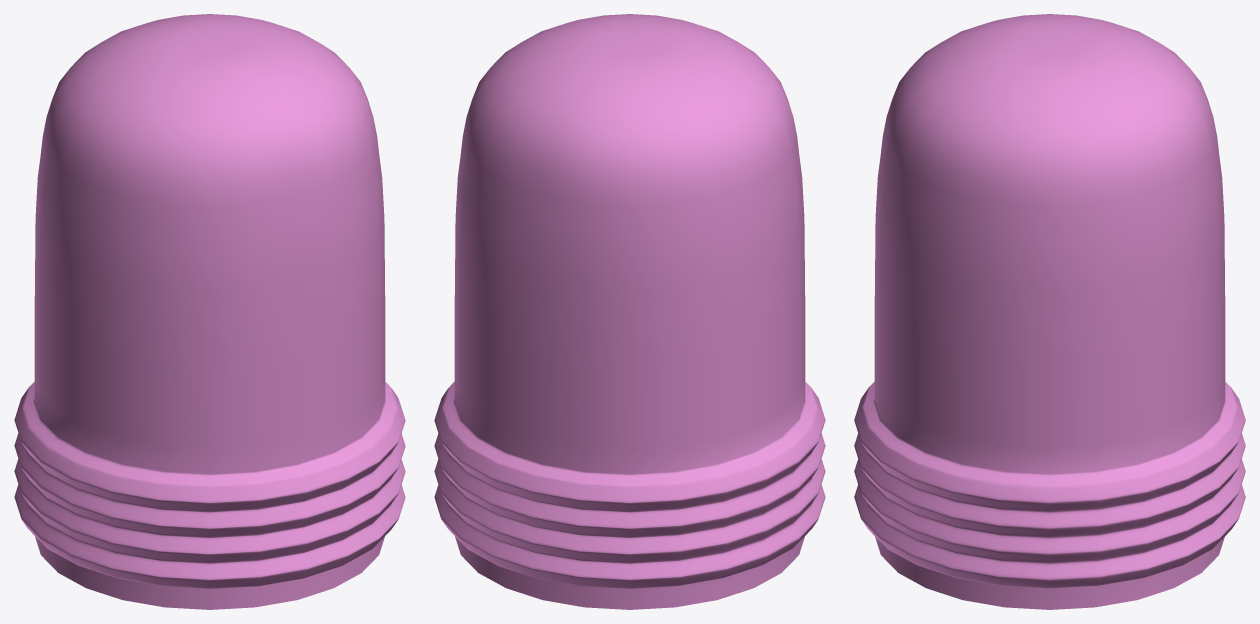
File: iod_low.fbx
3 views of the same model, side by side, from view 1: azimuth 30°, elevation 25°; view 2: azimuth 150°, elevation 25°; view 3: azimuth 270°, elevation 25° (orthographic).
Visible parts, largest first — view 1: iod_low; view 2: iod_low; view 3: iod_low.
Boxes of the visible parts, x1,y1,x2,y2 form: iod_low: (14, 14, 405, 609); iod_low: (434, 14, 825, 609); iod_low: (854, 14, 1245, 609).
Bounding box in the file's own units: 11.47 × 11.5 × 15.97.
